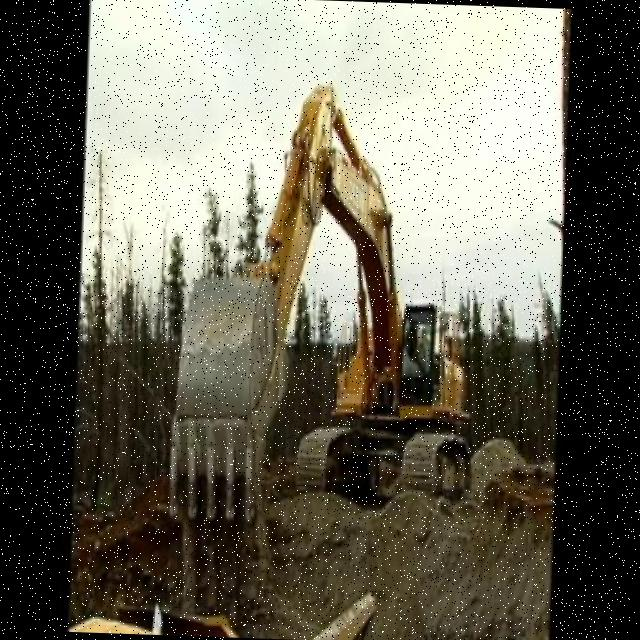Excavator: (159, 62, 485, 526)
